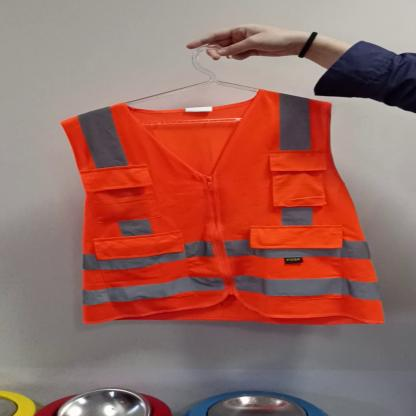colete: (54, 85, 391, 330)
